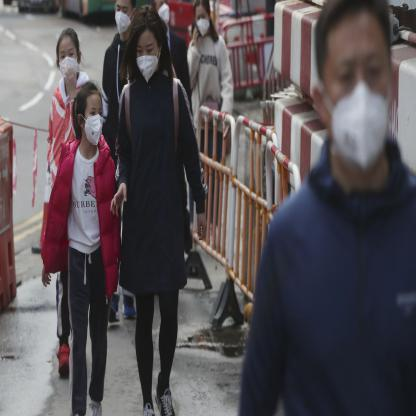Wearing_Mask: (325, 46, 389, 177), (136, 40, 158, 84), (84, 104, 104, 146), (58, 45, 78, 79), (114, 2, 131, 35), (195, 10, 210, 37), (156, 0, 171, 25)
